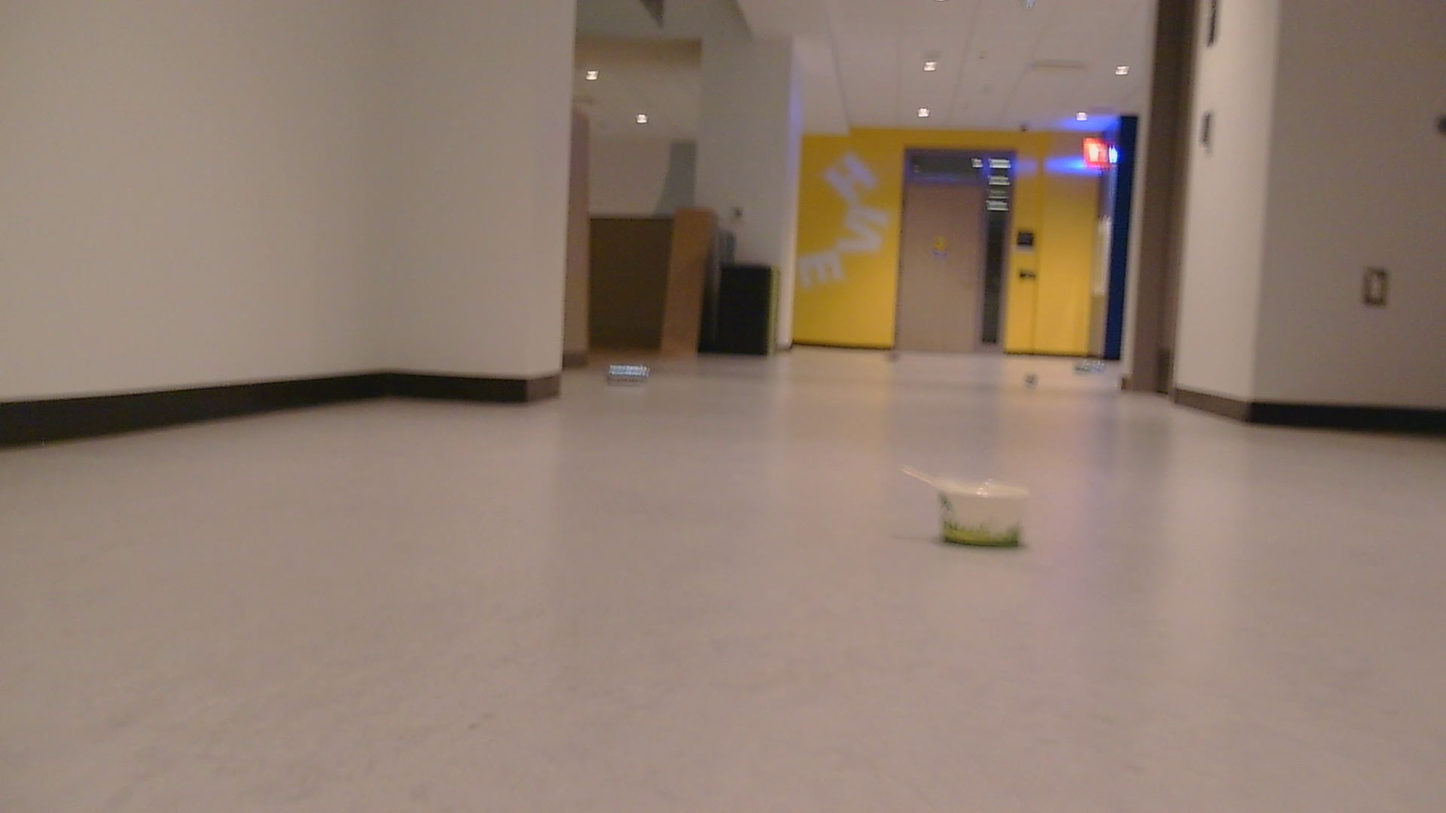carton: (918, 477, 1047, 533), (590, 358, 652, 388), (1072, 355, 1109, 374), (885, 352, 913, 359), (1027, 372, 1039, 381)
